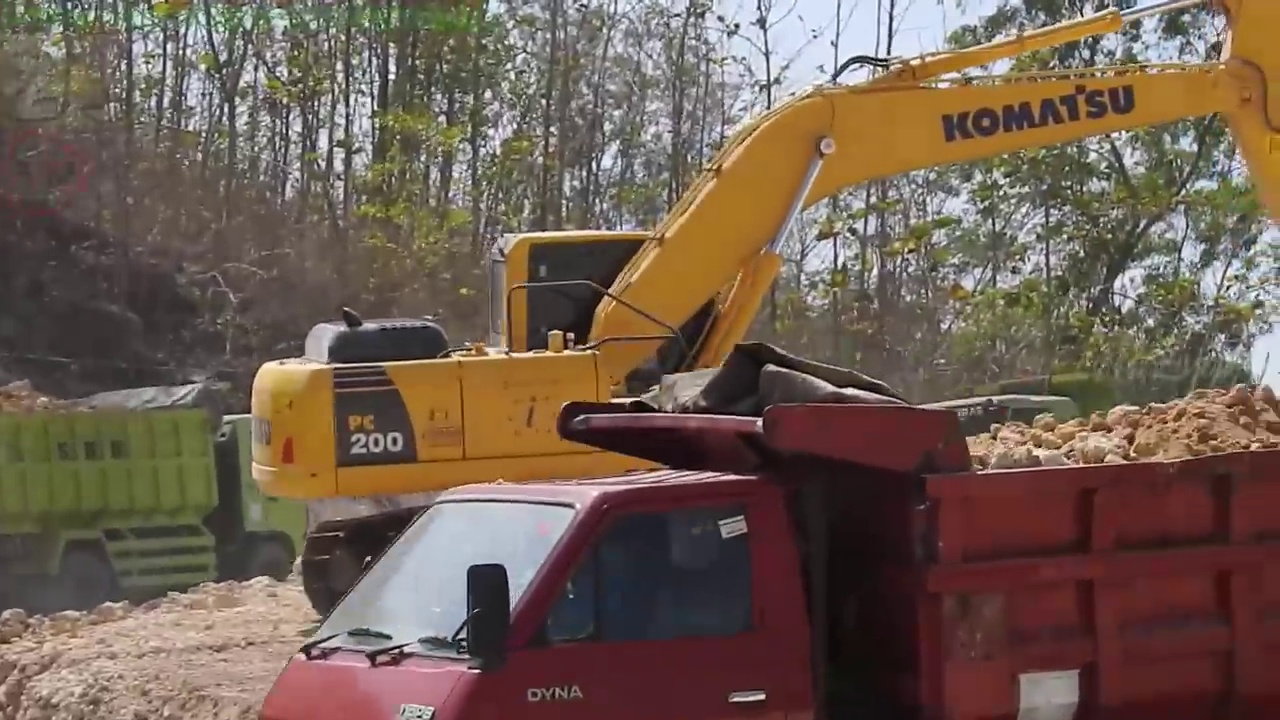excavator: (248, 1, 1280, 656)
truck: (254, 340, 1280, 720), (1, 381, 313, 622), (916, 359, 1280, 564)
